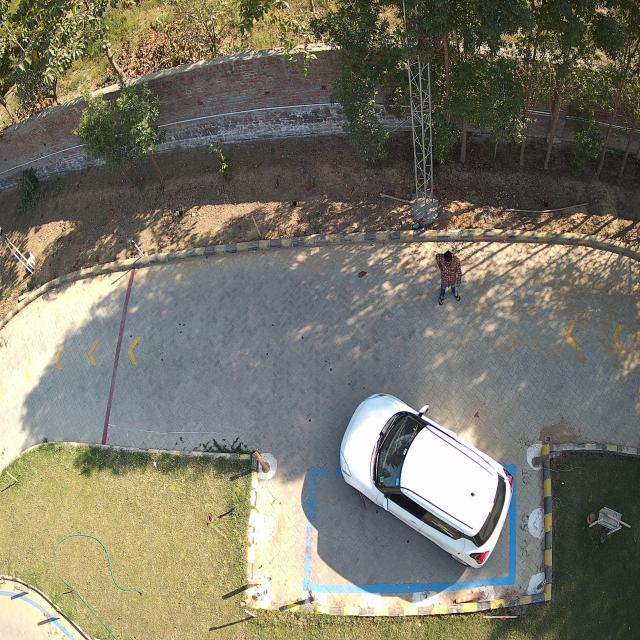car: (340, 393, 514, 568)
